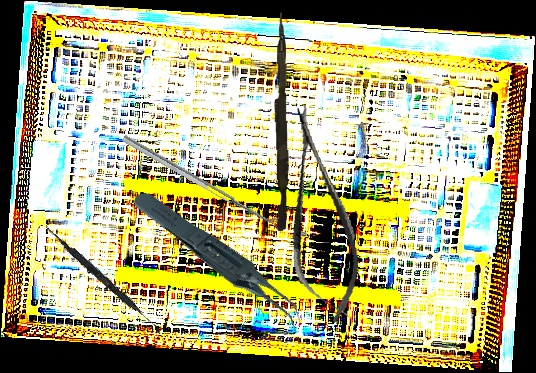Micro Scissor: (272, 102, 368, 327)
Pusher: (269, 12, 293, 231)
Spatula Surgical: (121, 128, 281, 229), (41, 224, 166, 335)
Tissue Forceps: (129, 161, 310, 363)
